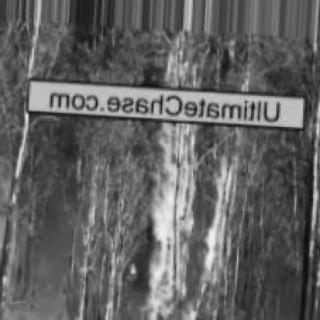Fire: (127, 37, 209, 316), (196, 157, 240, 291)
